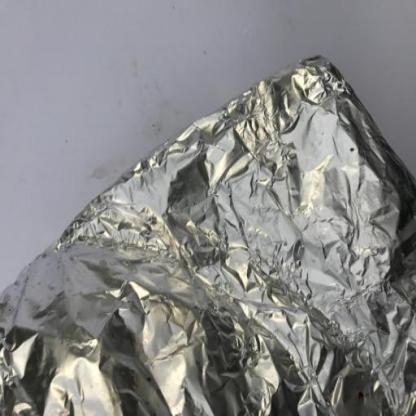Metal: (0, 56, 416, 416)
